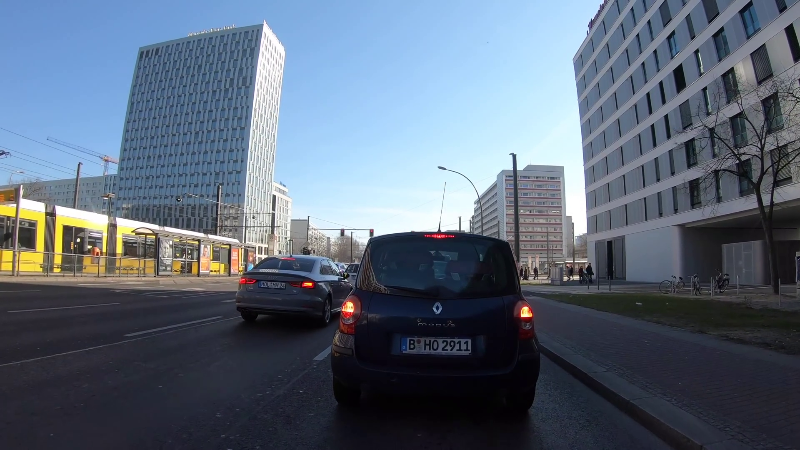Plate: (398, 331, 473, 361), (256, 279, 288, 292)
